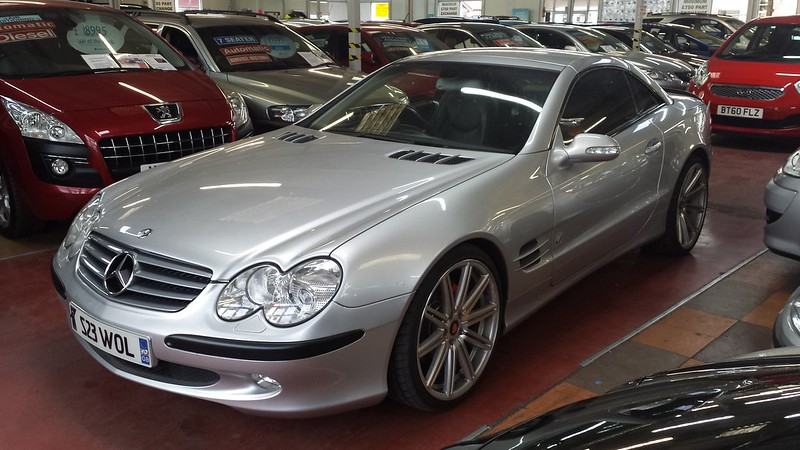number_plate: (53, 301, 176, 372)
